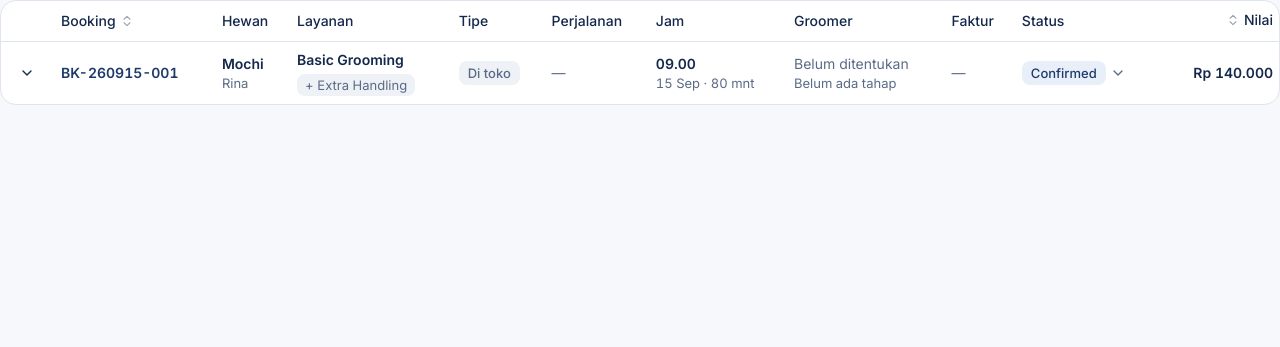
Test case: GroomingBookingsTable — header sorting › still folds the row open on a click, and not from the status control
The width and height of the screenshot is (1280, 347).
Click the button with aria-label "Status ": (1077, 73) [1022, 55, 1132, 91]
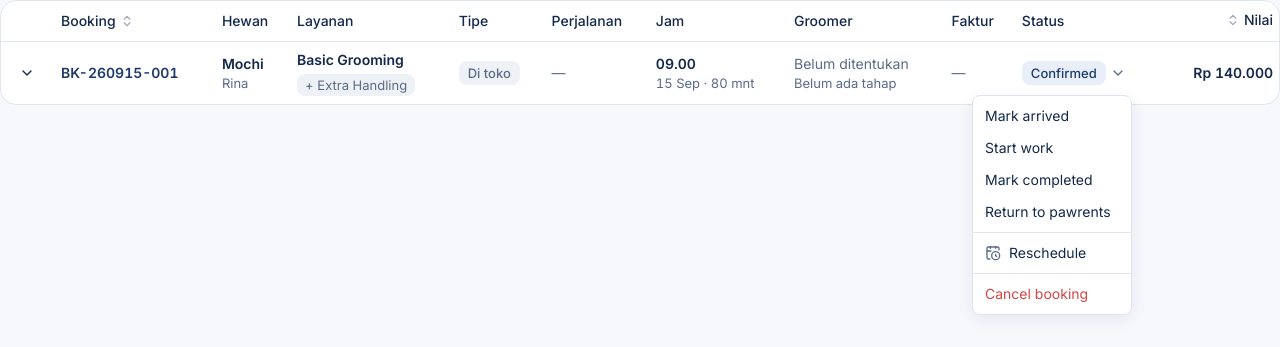
Press Escape
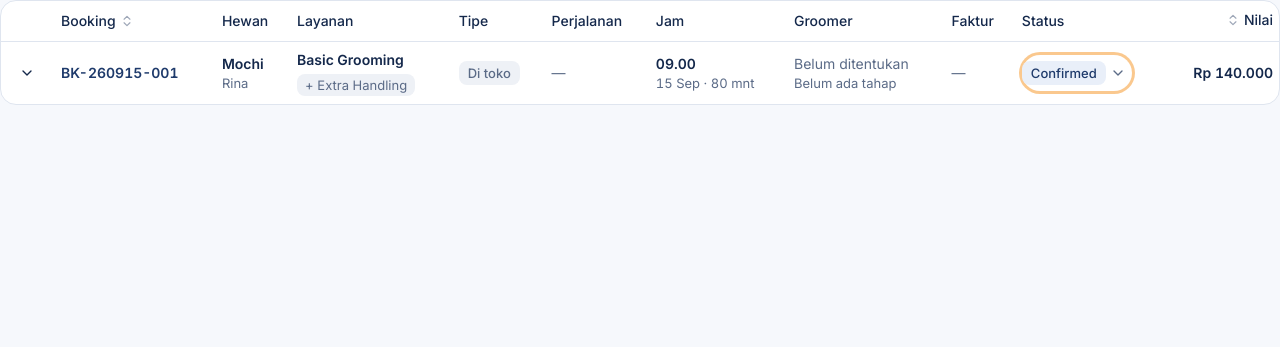
Click the text "Rina": (235, 82) [222, 74, 248, 90]
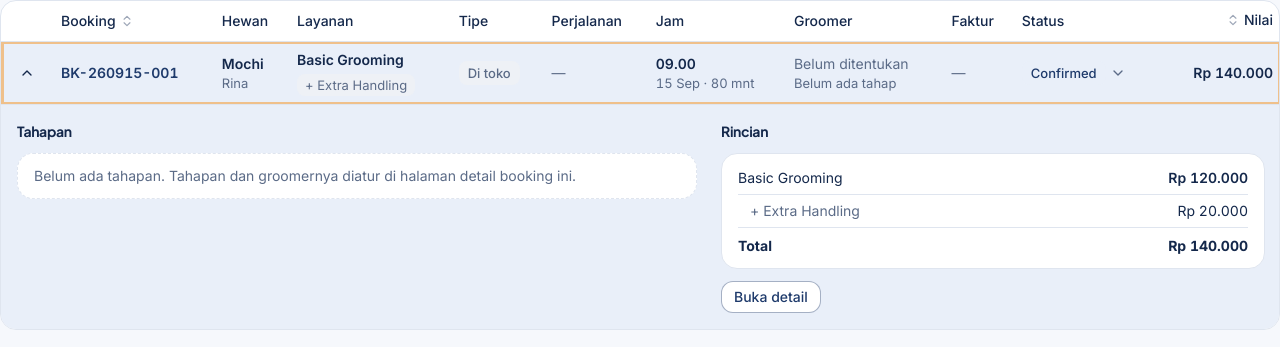
Expected: the element "Rincian" is shown, [721, 121, 1265, 313]
